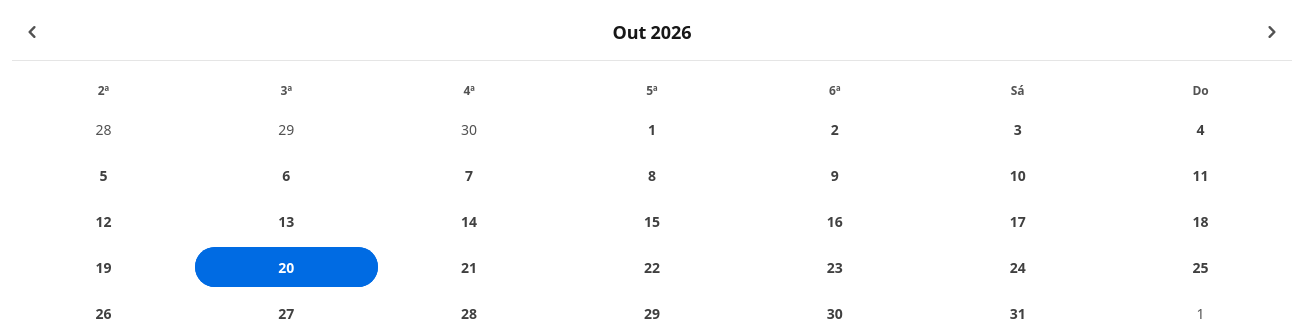
Test: Calendar › meses e dias da semana em pt-BR
This screenshot has width=1304, height=336.
What coordinates should you click on to do the following:
click the button "Out"
I would click on:
 (629, 32)
Its box is [612,18,646,46].
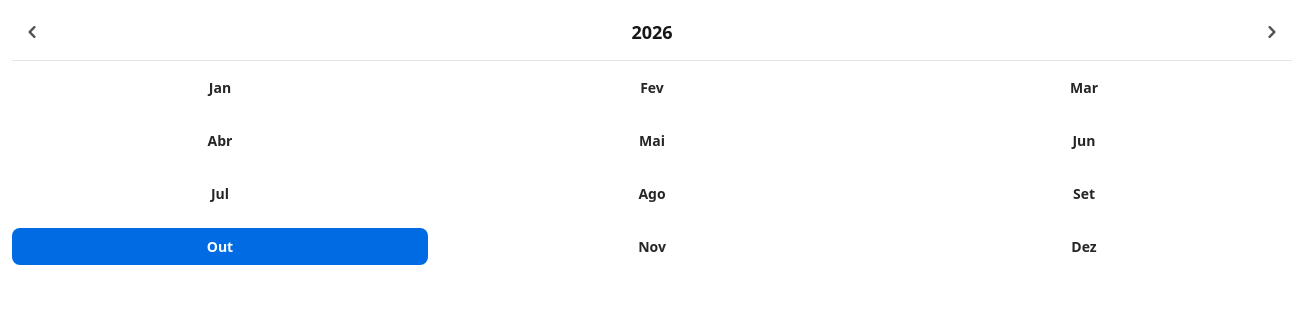
Expected: the button "Out" is shown, [12,228,428,265]
Result: the button "Fev" is shown at [444,69,860,106]
Result: the button "Dez" is shown at [876,228,1292,265]
